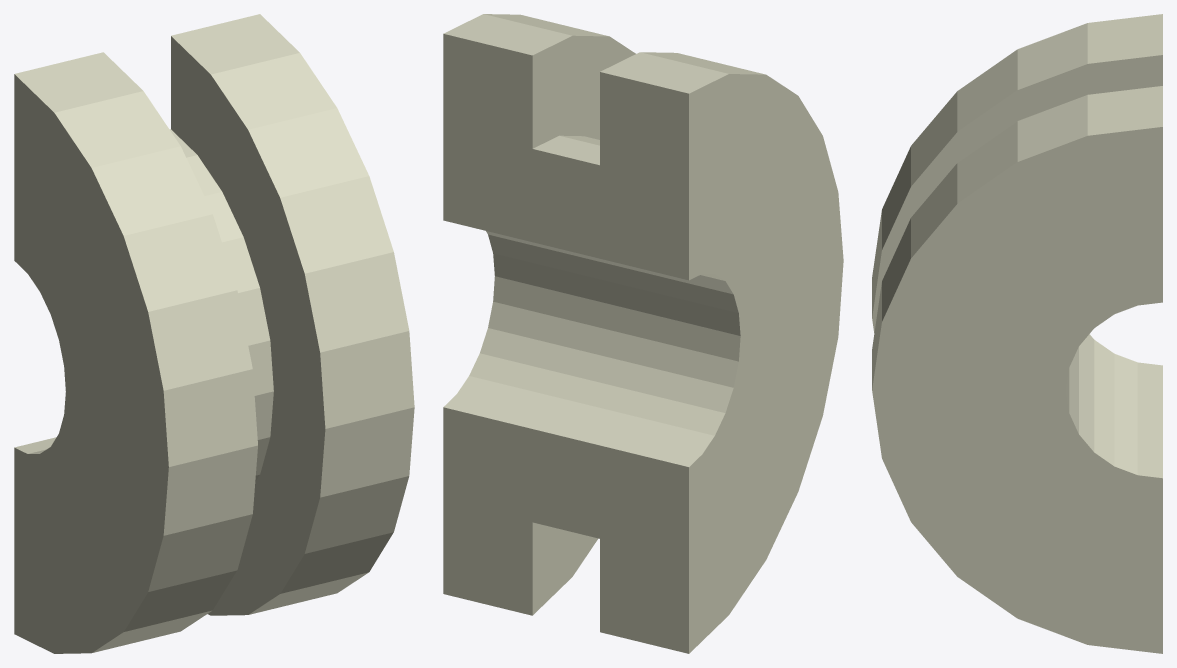
File: section_148.obj
The picture shows the model from 3 angles, left to right: view 1: azimuth 30°, elevation 25°; view 2: azimuth 150°, elevation 25°; view 3: azimuth 270°, elevation 25°; orthographic projection. The views are drawn at different scales.
Size of the model in its own units: 2.75 by 6 by 3.
